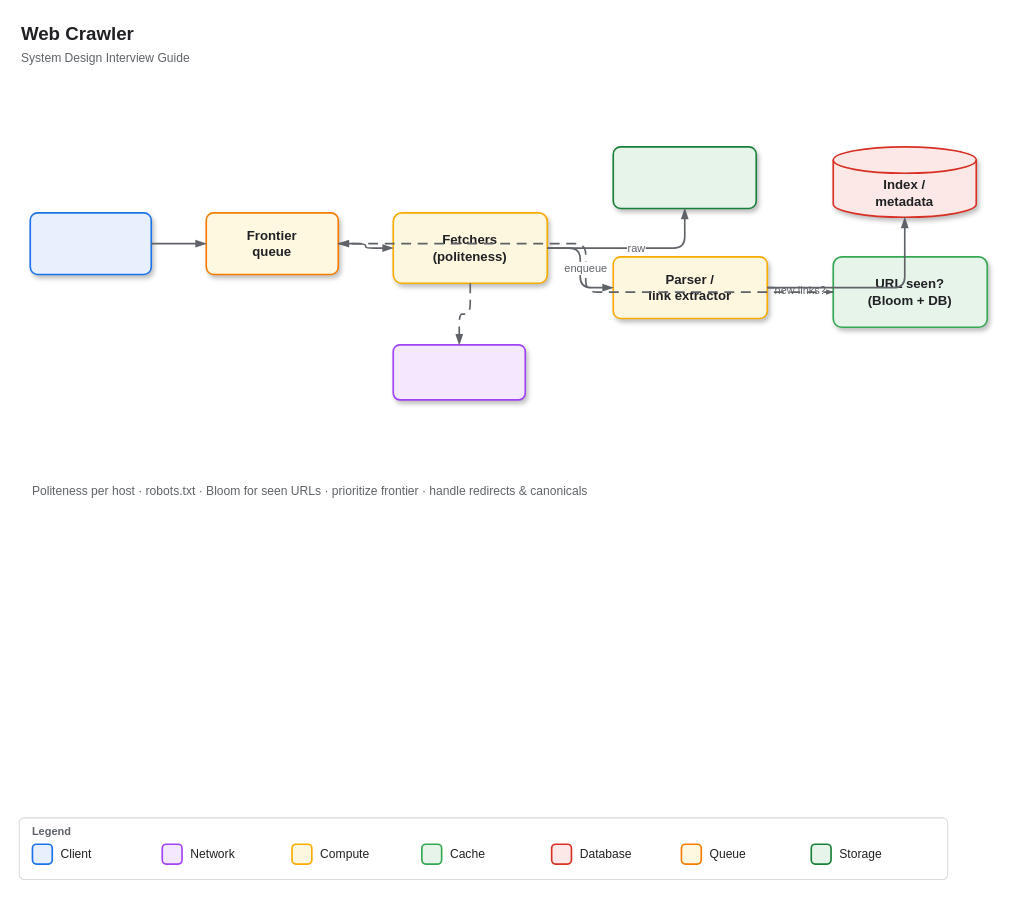
Image size: 1014x899. Some labels were removed from this diagram. Each missing label, with the centre of its shape:
"Content store" belongs at pixel 685 178.
"DNS cache" belongs at pixel 460 373.
"Seed URLs" belongs at pixel 91 244.
